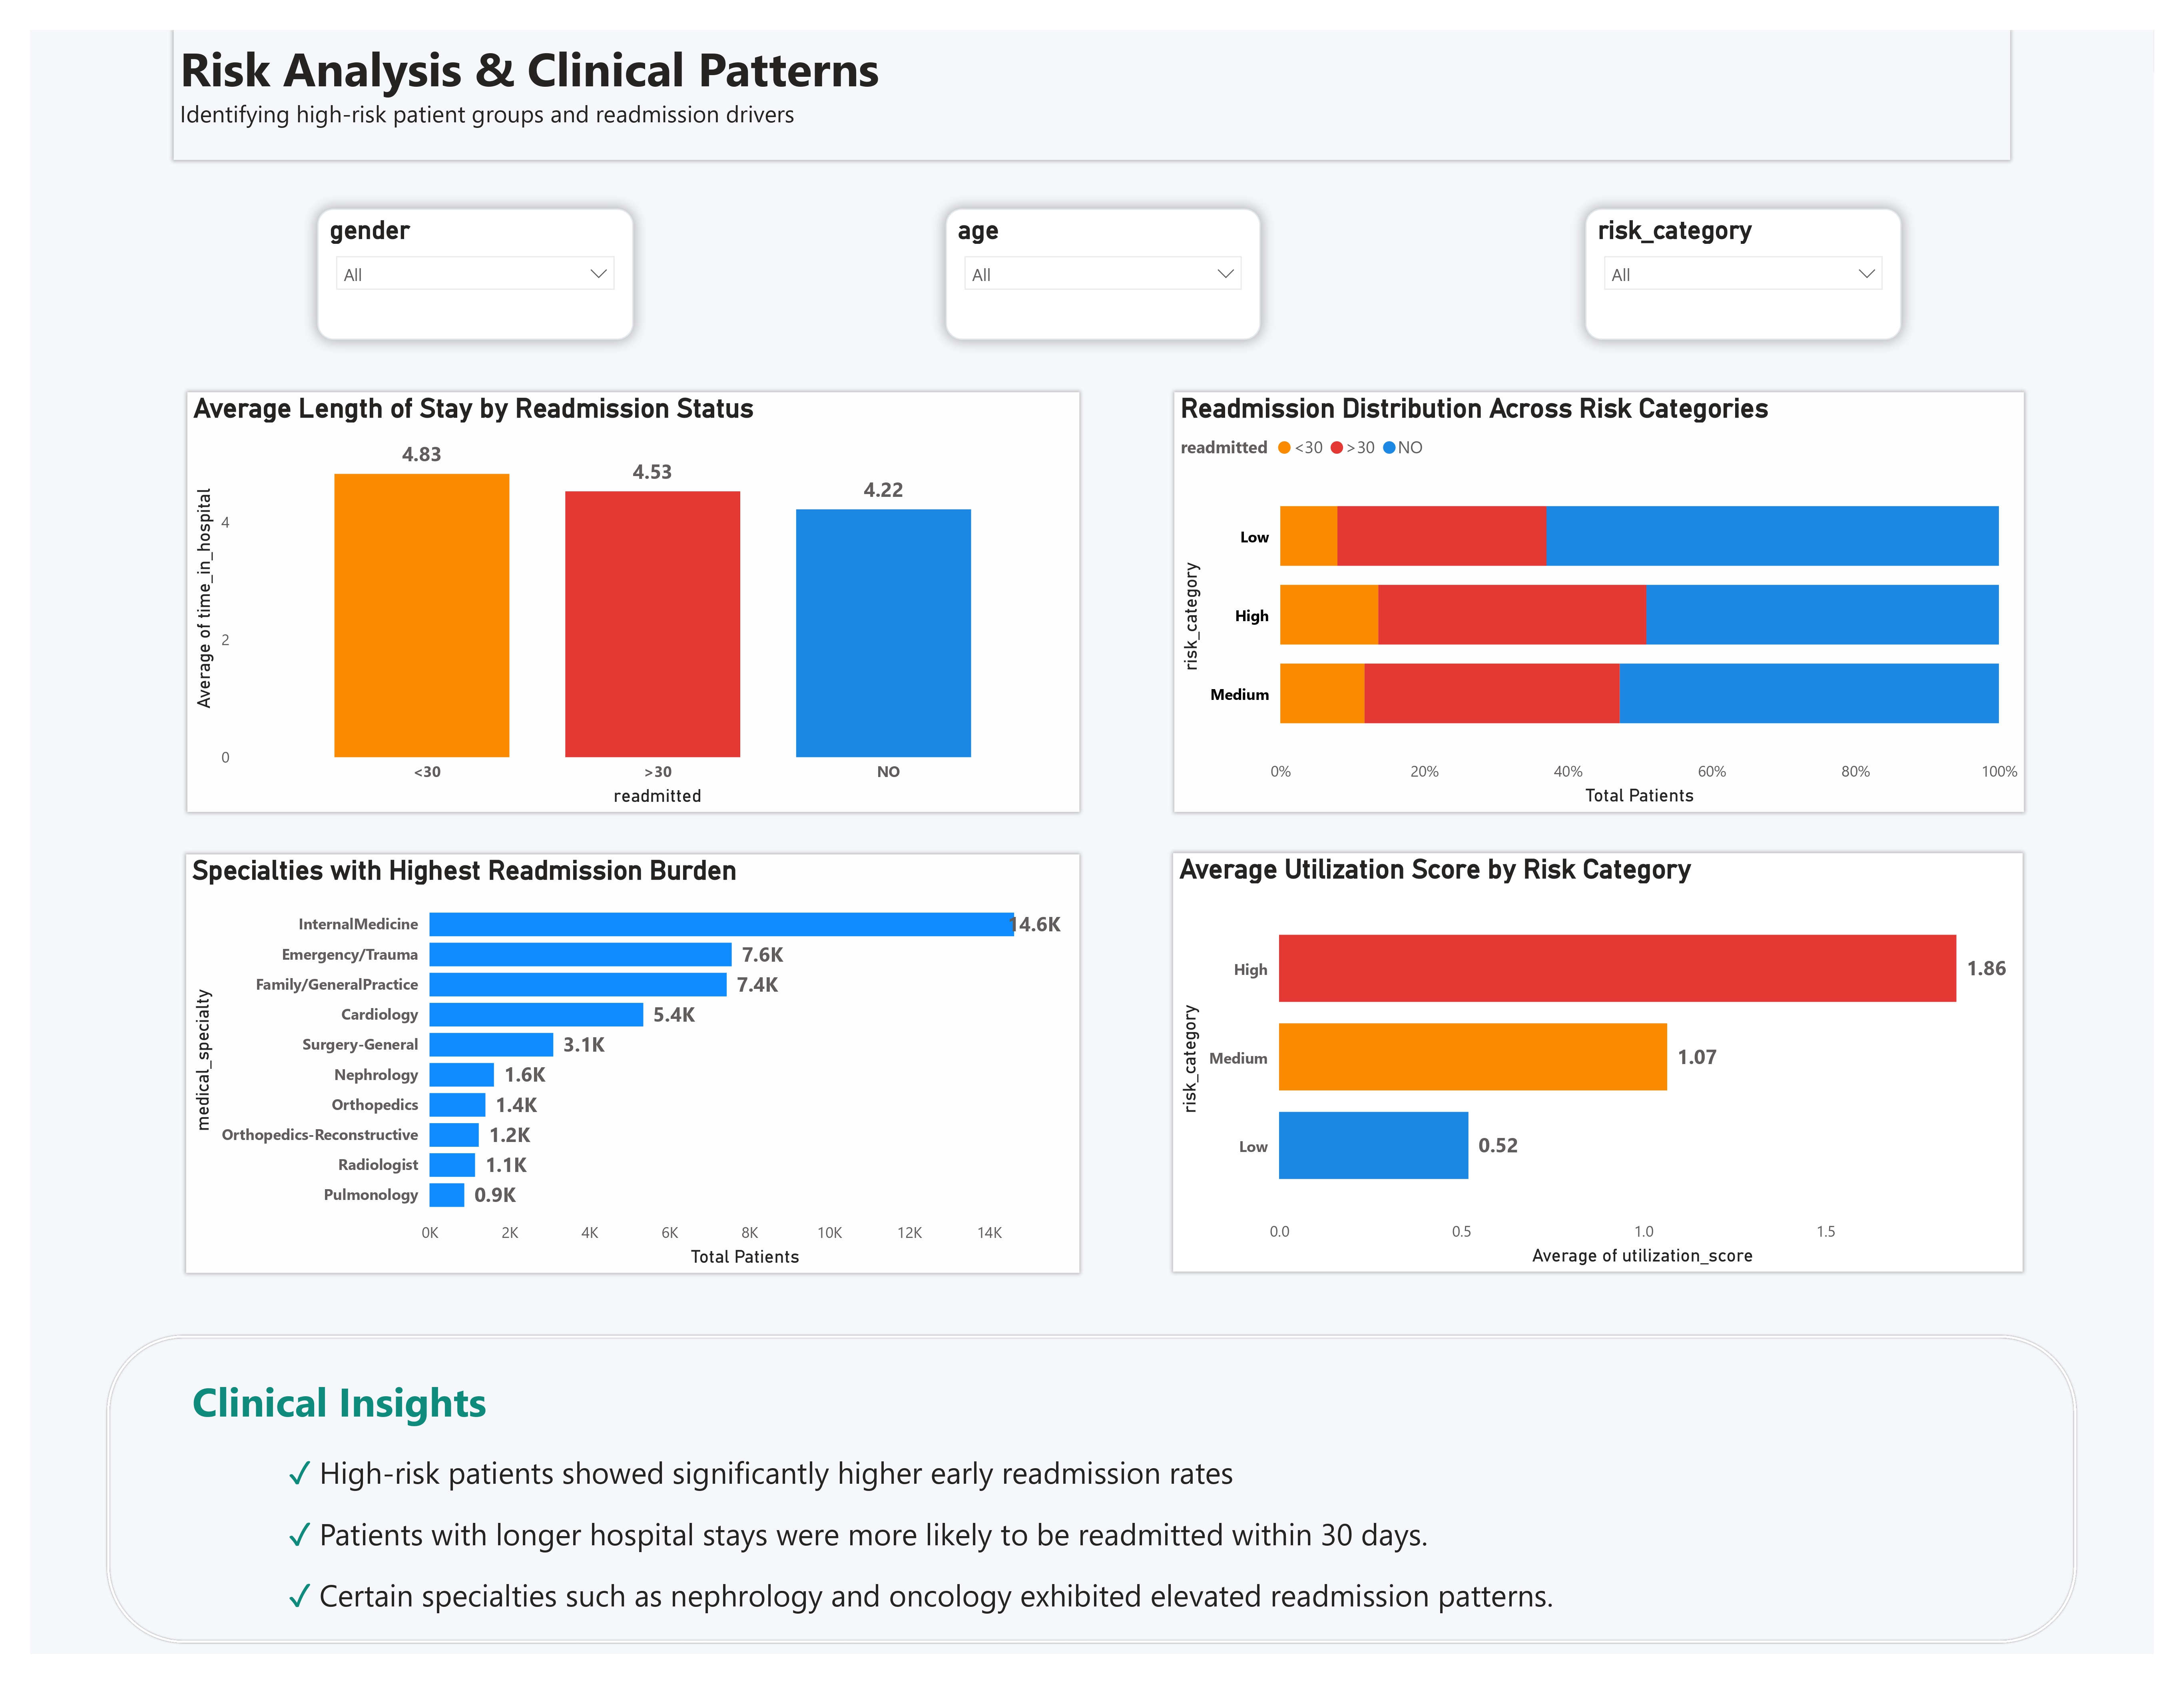

The page's visual inventory and layout, read from the dashboard file:
{"tool":"powerbi","page":{"name":"⚠️Risk Analysis","canvas":[1700,1300],"ordinal":2},"visuals":[{"type":"hundredPercentStackedBarChart","title":"Readmission Distribution Across Risk Categories","fields":{"Category":["featured_hospital_data.risk_category"],"Series":["featured_hospital_data.readmitted"],"Y":["featured_hospital_data.Total Patients"]},"box":[916,290,680,336],"z":0},{"type":"clusteredBarChart","title":"Average Utilization Score by Risk Category","fields":{"Y":["Avg(featured_hospital_data.utilization_score)"],"Category":["featured_hospital_data.risk_category"]},"box":[915,659,680,335],"z":1000},{"type":"clusteredBarChart","title":"Specialties with Highest Readmission Burden","fields":{"Category":["featured_hospital_data.medical_specialty"],"Y":["featured_hospital_data.Total Patients"]},"box":[125,660,715,335],"z":2000},{"type":"clusteredColumnChart","title":"Average Length of Stay by Readmission Status","fields":{"Category":["featured_hospital_data.readmitted"],"Y":["Avg(featured_hospital_data.time_in_hospital)"]},"box":[126,290,714,336],"z":3000},{"type":"textbox","box":[115,0,1470,104],"z":5000},{"type":"slicer","title":"gender","fields":{"Values":["featured_hospital_data.gender"]},"box":[230,142.5,252.5,105],"z":6000},{"type":"slicer","title":"age","fields":{"Values":["featured_hospital_data.age"]},"box":[732.5,142.5,252.5,105],"z":7000},{"type":"slicer","title":"risk_category","fields":{"Values":["featured_hospital_data.risk_category"]},"box":[1245,142.5,252.5,105],"z":8000},{"type":"shape","box":[60,1042.5,1580,250],"z":9000},{"type":"textbox","box":[125,1070,342.5,52.5],"z":10000},{"type":"textbox","box":[202,1122,1170,156],"z":11000}]}

Visuals, with their boxes on the page's 1700x1300 design canvas (x1, y1, x2, y2). These are canvas units, not pixel positions in the 2184x1684 screenshot, which may show the page scaled, cropped or inside an application window:
"Readmission Distribution Across Risk Categories" hundredPercentStackedBarChart: (left=916, top=290, right=1596, bottom=626)
"Average Utilization Score by Risk Category" clusteredBarChart: (left=915, top=659, right=1595, bottom=994)
"Specialties with Highest Readmission Burden" clusteredBarChart: (left=125, top=660, right=840, bottom=995)
"Average Length of Stay by Readmission Status" clusteredColumnChart: (left=126, top=290, right=840, bottom=626)
textbox: (left=115, top=0, right=1585, bottom=104)
"gender" slicer: (left=230, top=142, right=482, bottom=248)
"age" slicer: (left=732, top=142, right=985, bottom=248)
"risk_category" slicer: (left=1245, top=142, right=1498, bottom=248)
shape: (left=60, top=1042, right=1640, bottom=1292)
textbox: (left=125, top=1070, right=468, bottom=1122)
textbox: (left=202, top=1122, right=1372, bottom=1278)
